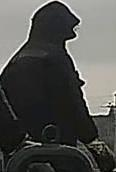vest: (0, 46, 99, 151)
